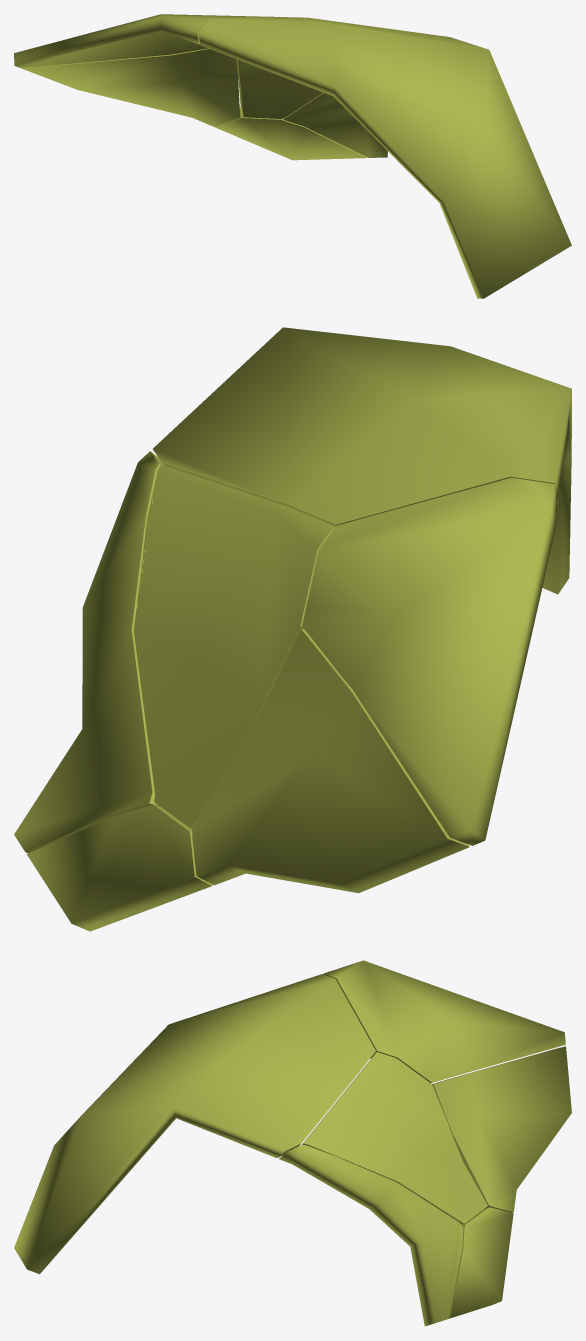
The model's file is Plaque_07.fbx.
The picture shows the model from 3 angles, top to bottom: view 1: azimuth 30°, elevation 25°; view 2: azimuth 150°, elevation 25°; view 3: azimuth 270°, elevation 25°; orthographic projection. The views are drawn at different scales.
Visible parts, largest first — view 1: tooth_d.043_cell.002, tooth_d.043_cell.003, tooth_d.043_cell, tooth_d.043_cell.004, tooth_d.043_cell.005, tooth_d.043_cell.001; view 2: tooth_d.043_cell.002, tooth_d.043_cell, tooth_d.043_cell.005, tooth_d.043_cell.003, tooth_d.043_cell.001, tooth_d.043_cell.004; view 3: tooth_d.043_cell.002, tooth_d.043_cell.005, tooth_d.043_cell, tooth_d.043_cell.003, tooth_d.043_cell.001, tooth_d.043_cell.004.
Boxes of the visible parts, x1,y1,x2,y2 form: tooth_d.043_cell.002: (198,17,571,298); tooth_d.043_cell.003: (22,48,239,126); tooth_d.043_cell: (14,14,265,68); tooth_d.043_cell.004: (213,107,366,160); tooth_d.043_cell.005: (236,16,430,118); tooth_d.043_cell.001: (283,34,453,157); tooth_d.043_cell.002: (153,327,571,594); tooth_d.043_cell: (302,477,557,845); tooth_d.043_cell.005: (134,464,334,828); tooth_d.043_cell.003: (192,629,469,893); tooth_d.043_cell.001: (14,451,164,852); tooth_d.043_cell.004: (26,804,212,931); tooth_d.043_cell.002: (14,974,375,1274); tooth_d.043_cell.005: (302,1052,487,1224); tooth_d.043_cell: (323,960,565,1082); tooth_d.043_cell.003: (432,1046,571,1212); tooth_d.043_cell.001: (279,1144,463,1326); tooth_d.043_cell.004: (440,1207,513,1321).
Bounding box in the file's own units: 53.48 × 37.92 × 77.77.
